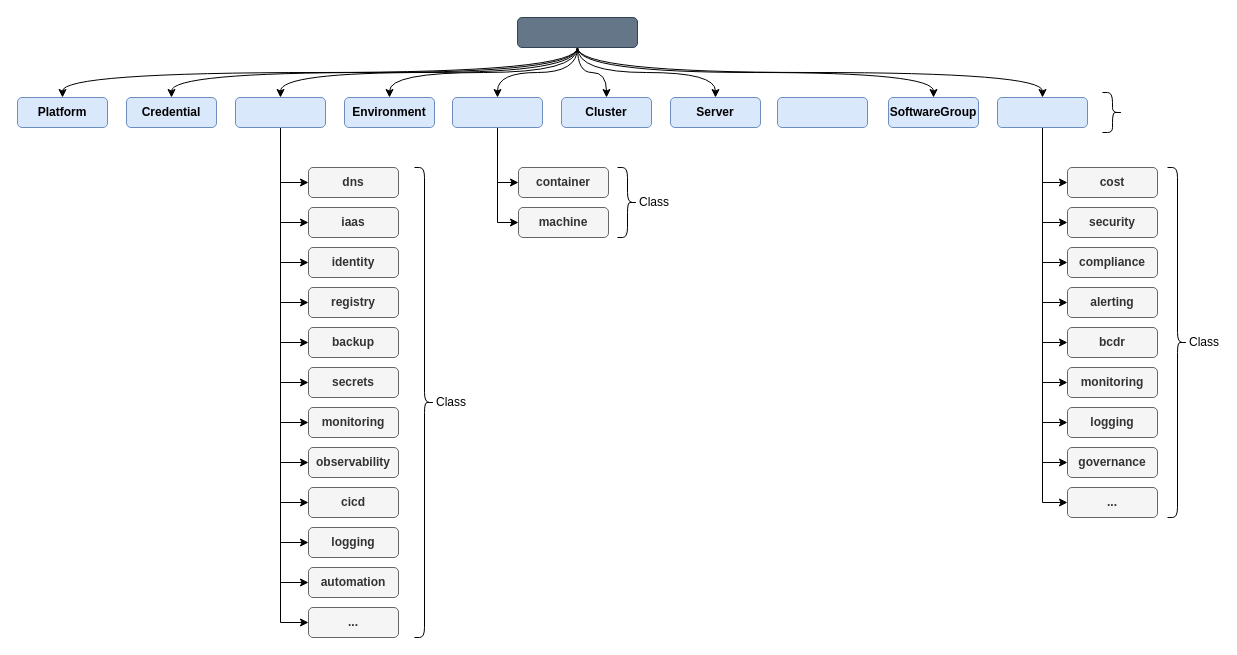
Image size: 1237x655. Some labels were removed from this diagram. The shapes that lost their labels are listed below. From the top down, each one's centre as x and y in pixels, then its label:
At pixel 577 32: "Platform Specification".
At pixel 280 112: "Provider".
At pixel 497 112: "Image".
At pixel 822 112: "Service".
At pixel 1042 112: "Policy".
At pixel 1112 112: "Kind".
